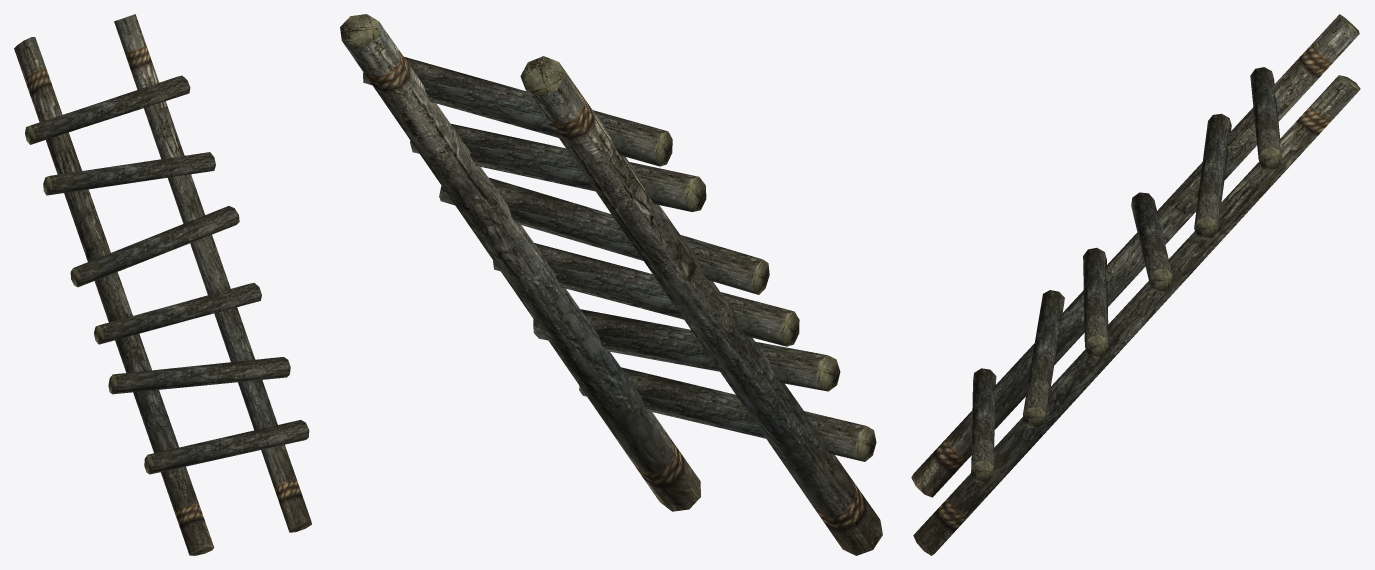
Rendered from camp_woodhut_ladder00.fbx.
3 views of the same model, side by side, from view 1: azimuth 30°, elevation 25°; view 2: azimuth 150°, elevation 25°; view 3: azimuth 270°, elevation 25° (orthographic). The views are drawn at different scales.
Visible parts, largest first — view 1: camp_woodhut_ladder00; view 2: camp_woodhut_ladder00; view 3: camp_woodhut_ladder00.
Part boxes in pixels (left/top/right/bottom): camp_woodhut_ladder00: left=14, top=14, right=311, bottom=555; camp_woodhut_ladder00: left=340, top=14, right=882, bottom=555; camp_woodhut_ladder00: left=911, top=14, right=1360, bottom=555.
Size of the model in its own units: 2.91 by 6.49 by 5.51.
